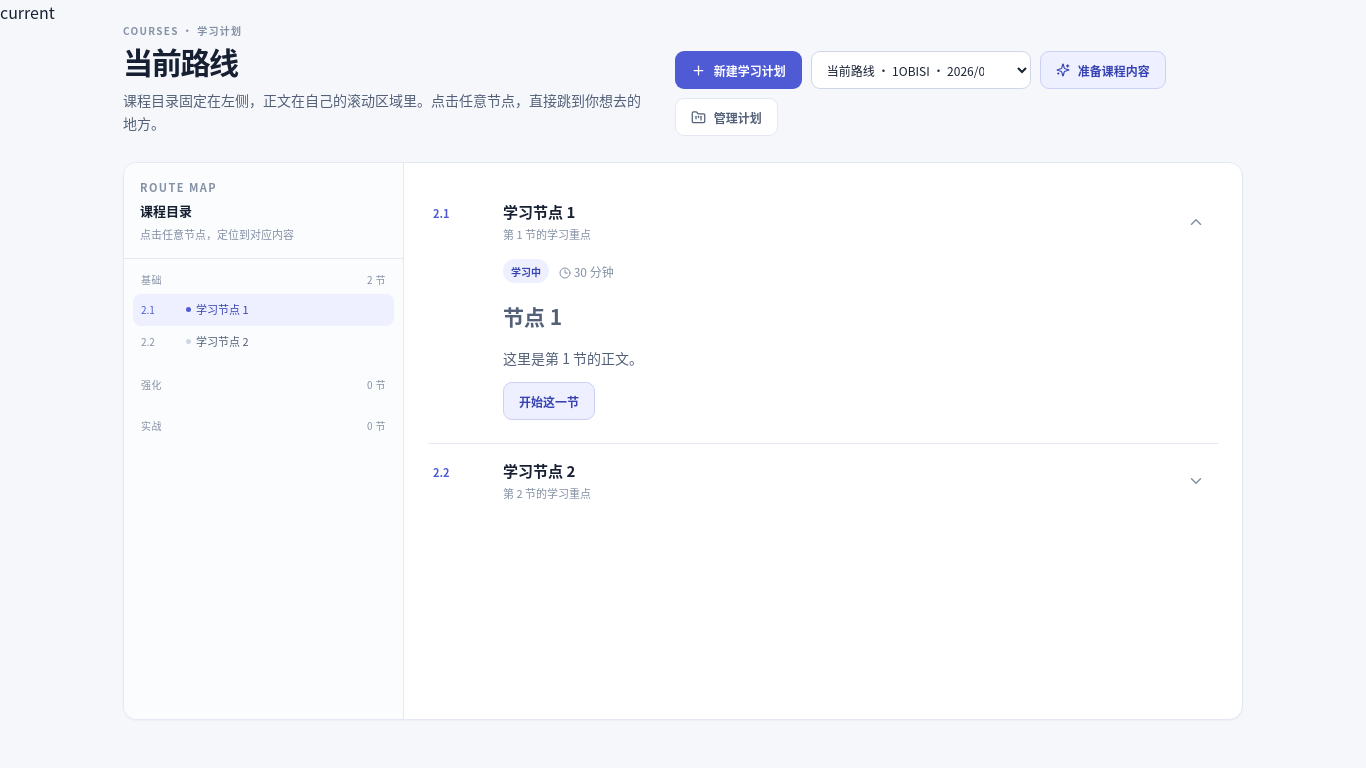
learning plan creation entry › keeps the prior roadmap selected after a generation failure and offers retry
Click the button "新建学习计划": click(738, 70) [675,51,802,89]
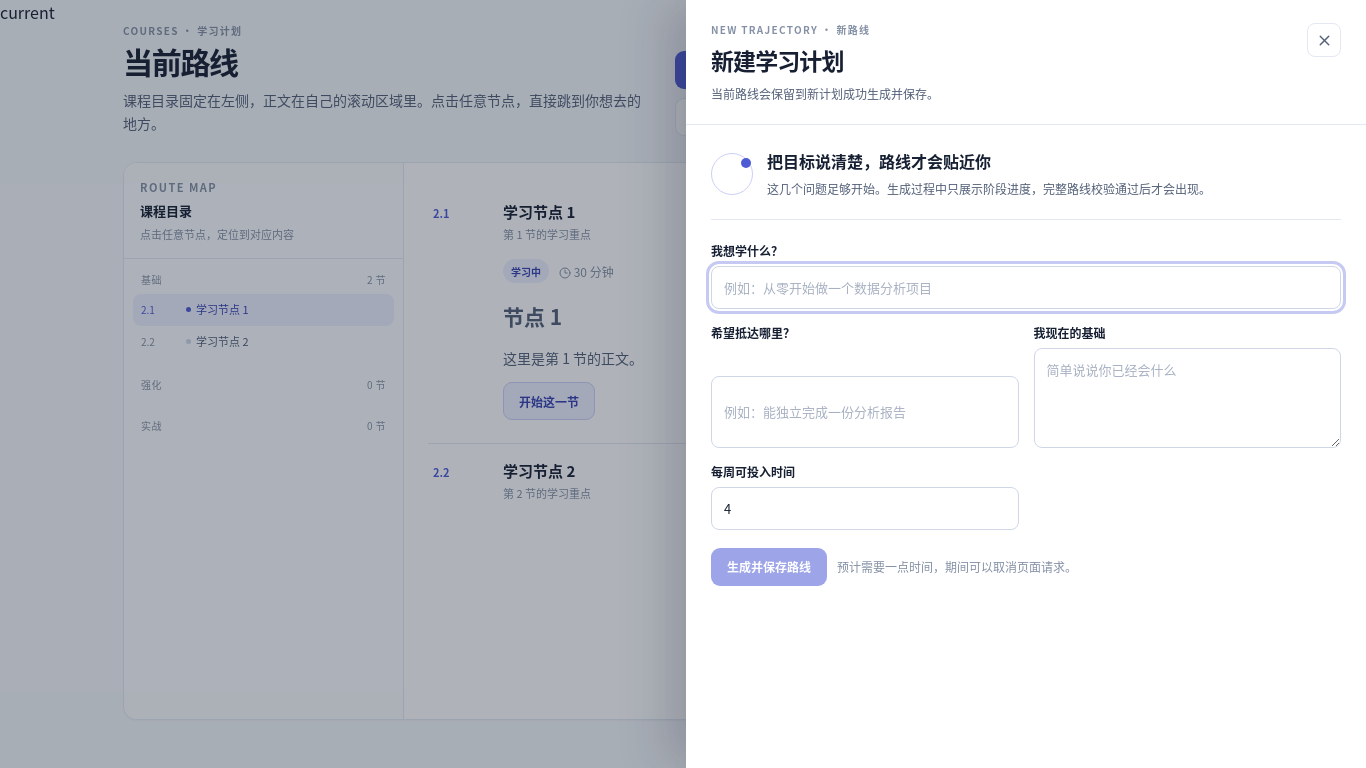
In the field labelled "我想学什么？": (1026, 287) [711,266,1341,309], type "数据分析"
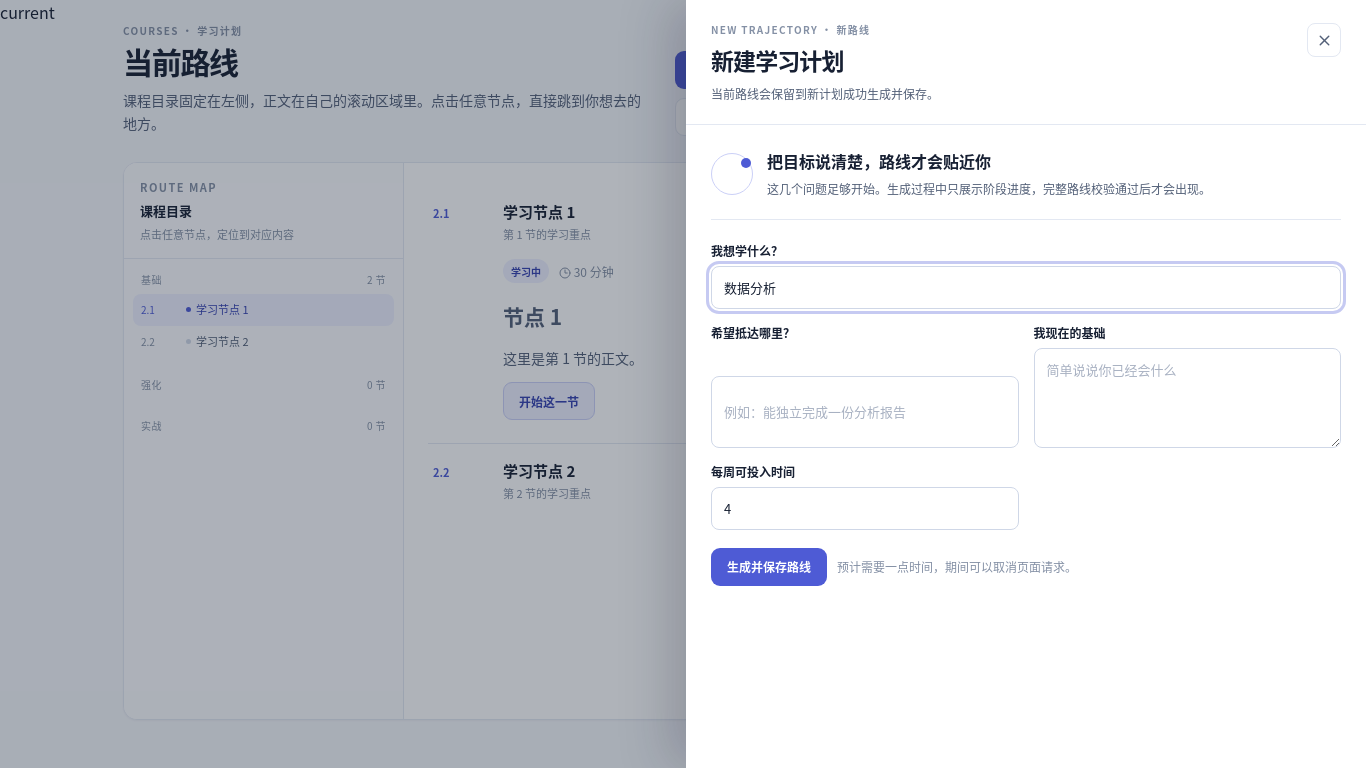
Click the button "生成并保存路线": click(769, 567) [711,548,827,586]
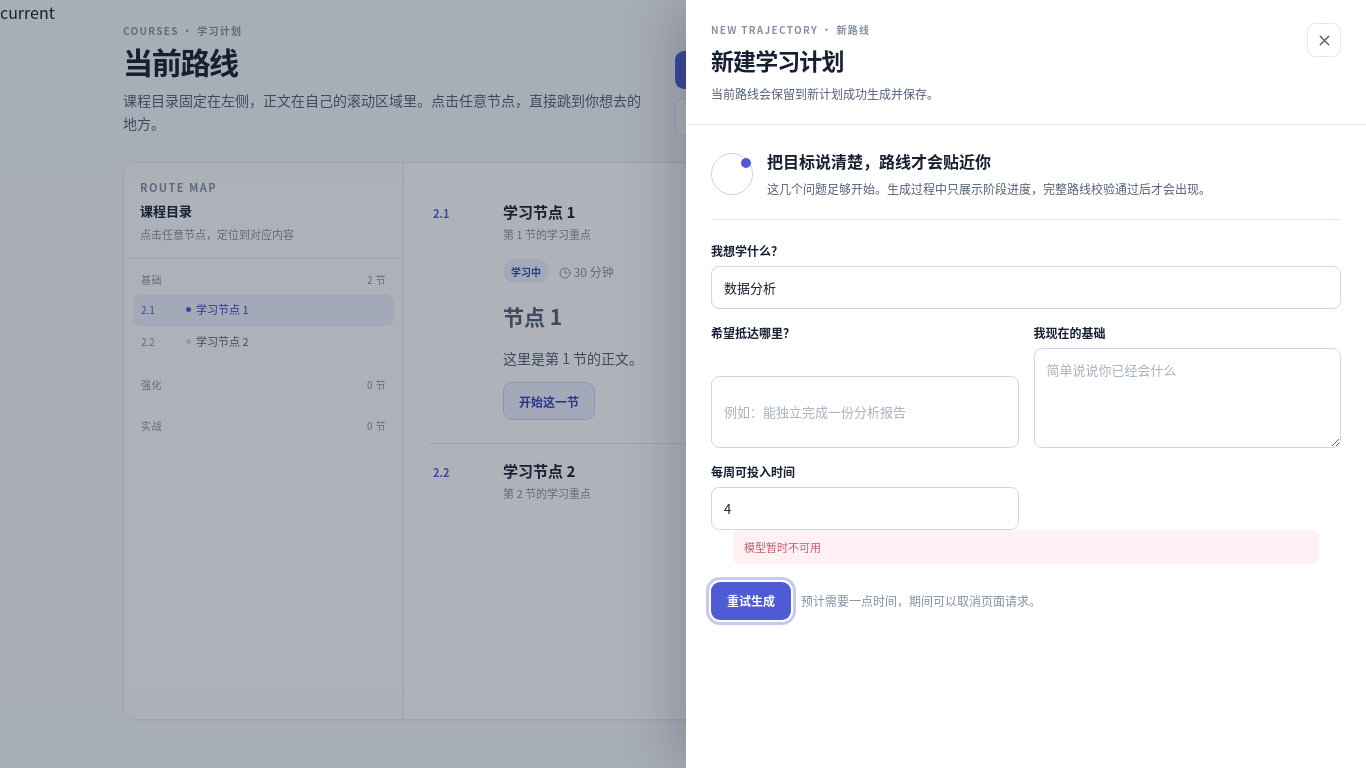
Expected: the text named "当前选择" reads "current", [0,0,55,24]
Expected: the button "重试生成" is enabled, [711,582,791,620]
Expected: the message reads "模型暂时不可用", [744,539,821,555]
